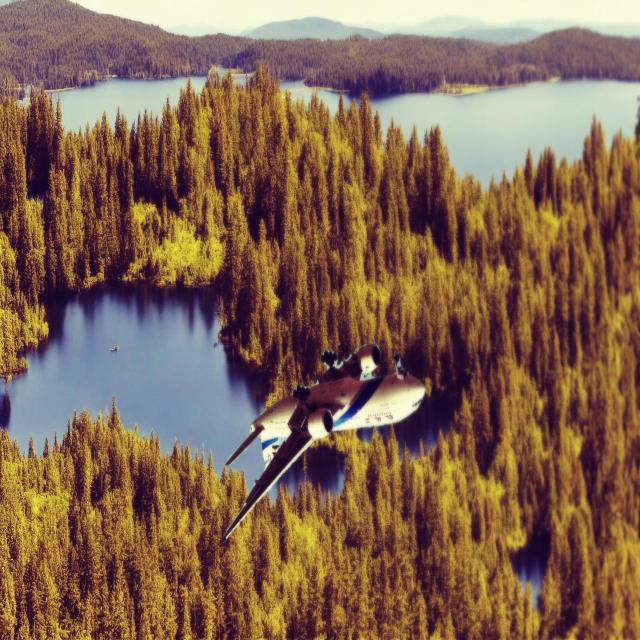airplane: (222, 341, 426, 541)
